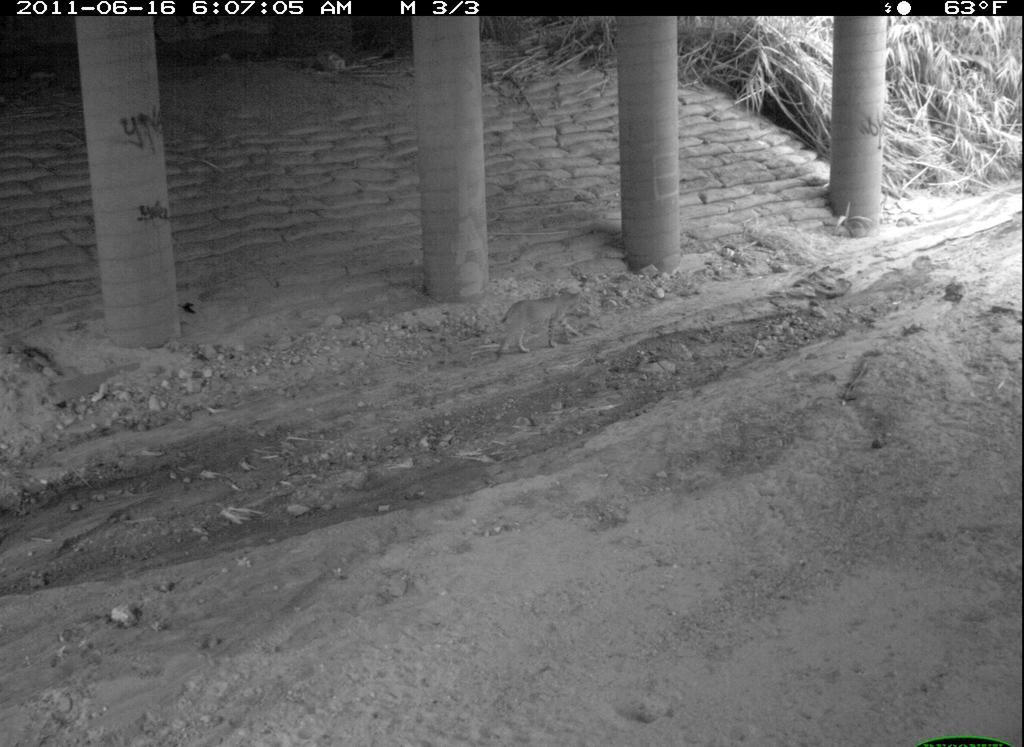bobcat: (975, 565, 1024, 724)
